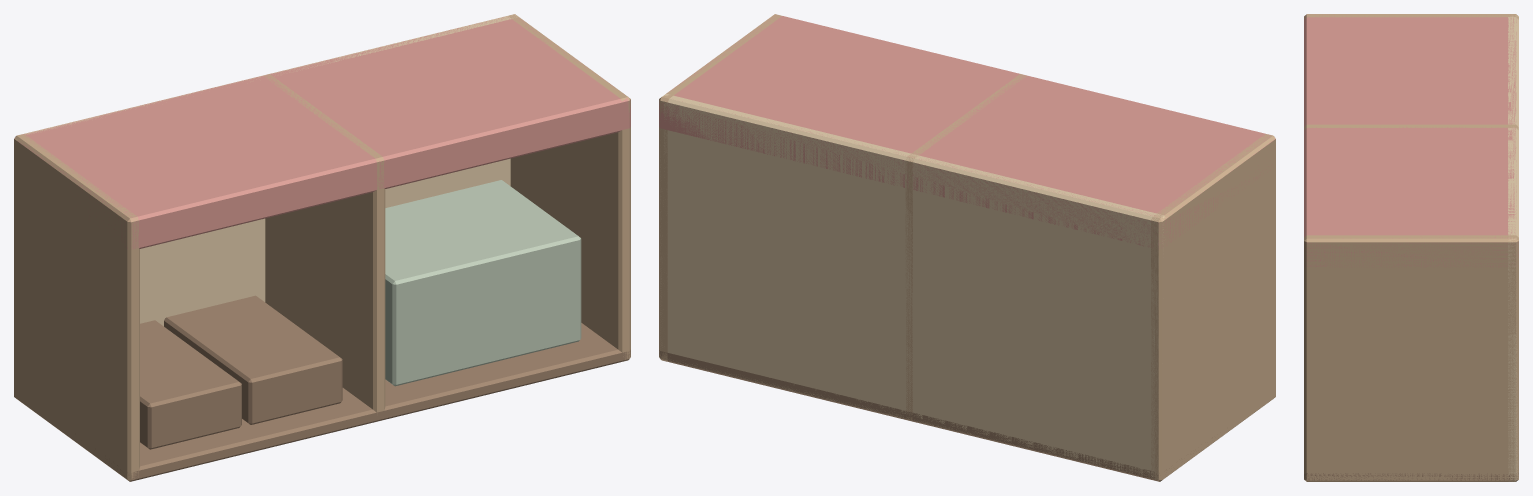
Rendered from Bench_2x1.glb.
3 views of the same model, side by side, from view 1: azimuth 30°, elevation 25°; view 2: azimuth 150°, elevation 25°; view 3: azimuth 270°, elevation 25° (orthographic). The views are drawn at different scales.
Visible parts, largest first — view 1: SpaceSaver_WallSys_Bench_2x1; view 2: SpaceSaver_WallSys_Bench_2x1; view 3: SpaceSaver_WallSys_Bench_2x1.
Boxes of the visible parts, x1,y1,x2,y2 form: SpaceSaver_WallSys_Bench_2x1: (14, 14, 630, 481); SpaceSaver_WallSys_Bench_2x1: (659, 14, 1275, 481); SpaceSaver_WallSys_Bench_2x1: (1304, 14, 1518, 481).
Bounding box in the file's own units: 0.8 × 0.4 × 0.32.
